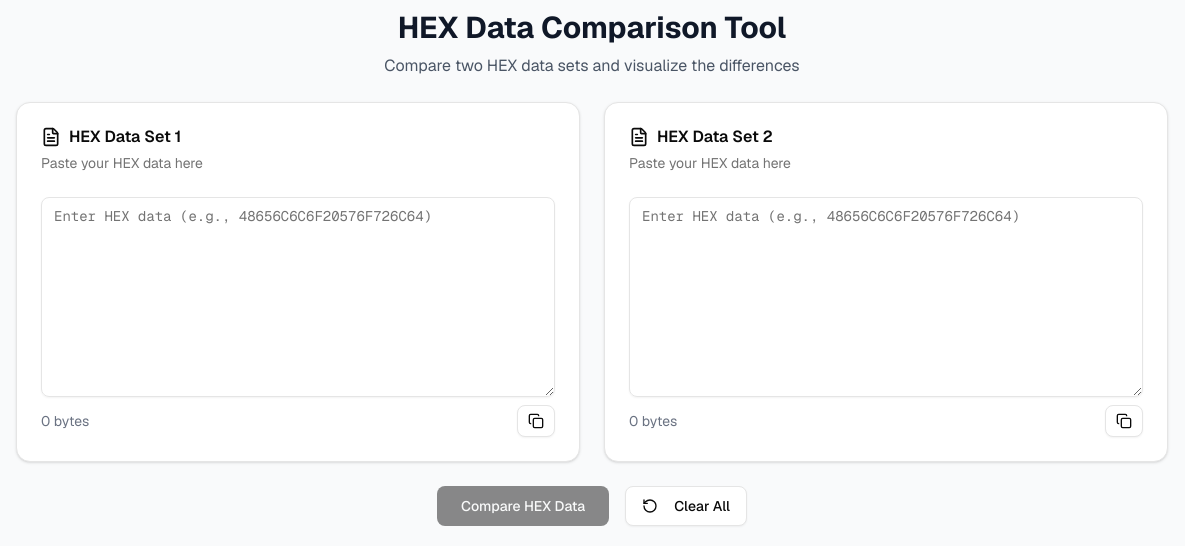
HexCompare component › clears inputs when "Clear All" is clicked
Type "ABC" into the text box with placeholder "Enter HEX data (e.g., 48656C6C6F20576F726C64)" below "HEX Data Set 1" at x=298, y=297, box [41,197,555,397]
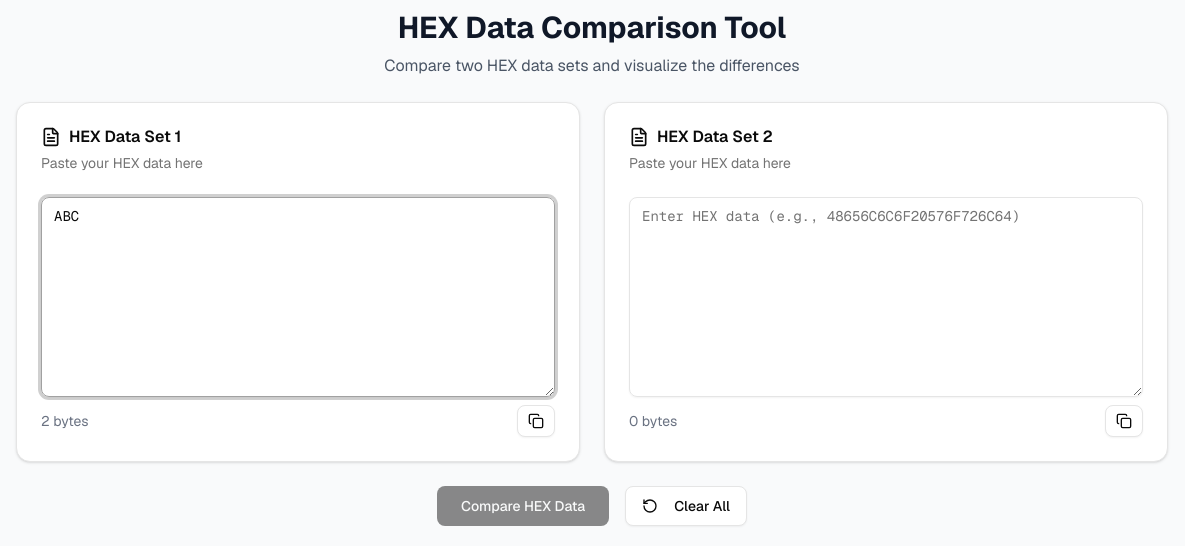
Type "DEF" into the text box with placeholder "Enter HEX data (e.g., 48656C6C6F20576F726C64)" at x=886, y=297, box [629,197,1143,397]
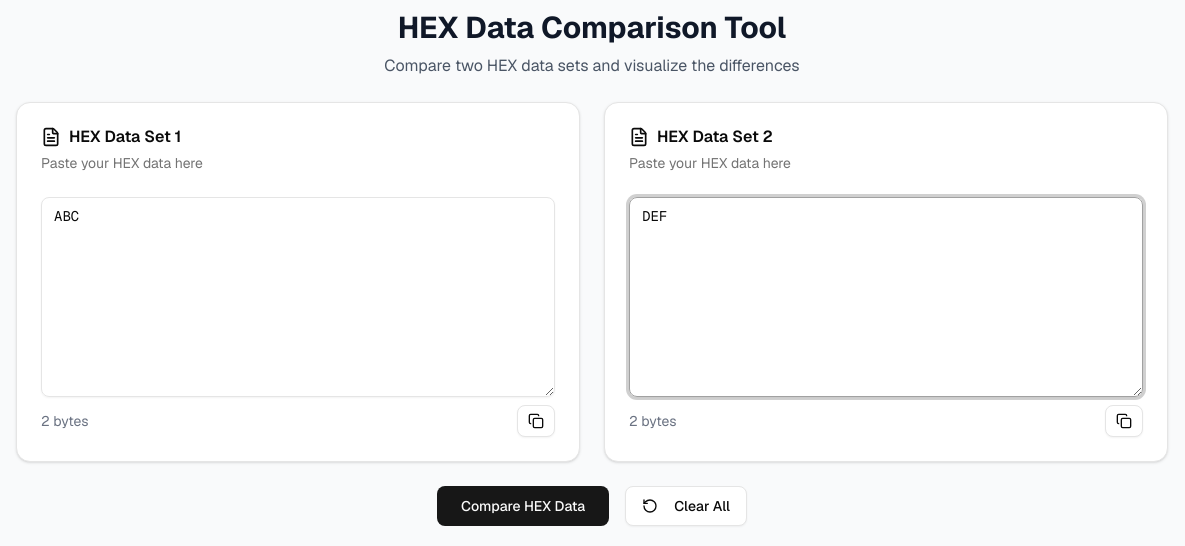
Click the button "Clear All" at x=686, y=506, box [625,486,747,526]
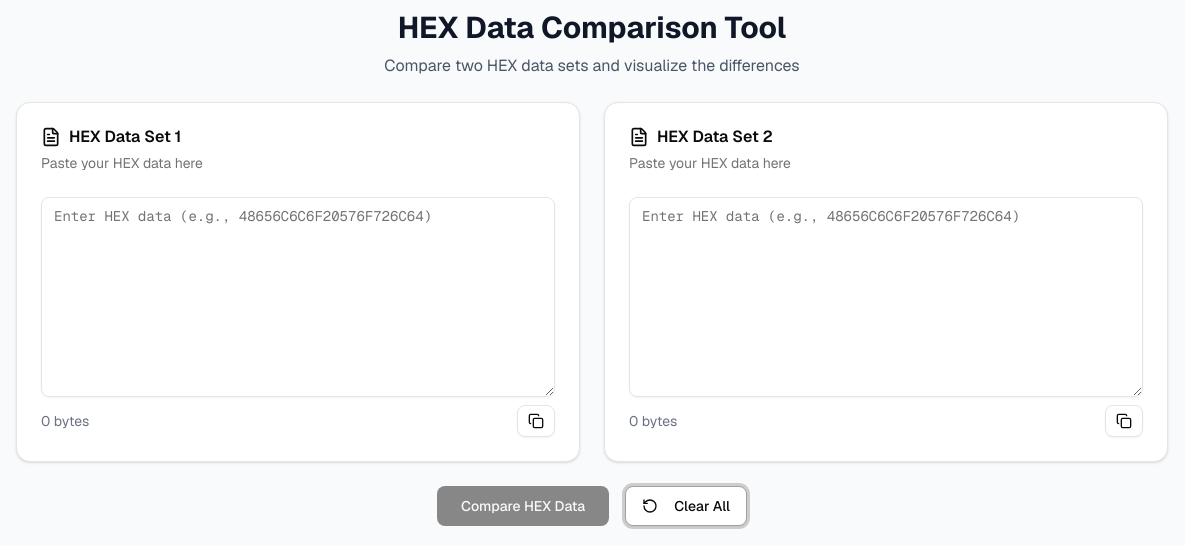
Expected: the text box with placeholder "Enter HEX data (e.g., 48656C6C6F20576F726C64)" below "HEX Data Set 1" is empty, [41,197,555,397]
Expected: the text box with placeholder "Enter HEX data (e.g., 48656C6C6F20576F726C64)" below "HEX Data Set 2" is empty, [629,197,1143,397]
